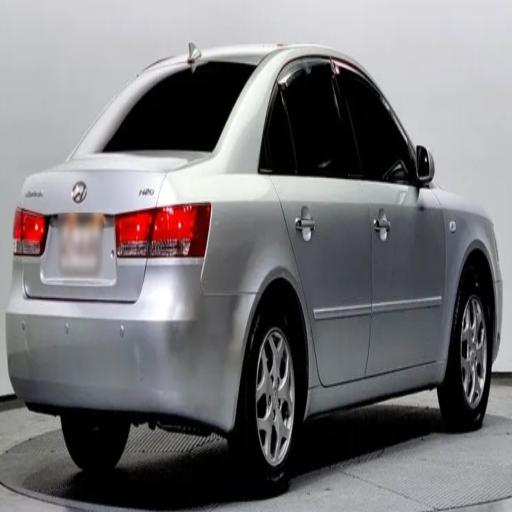normal: (2, 25, 512, 511)
